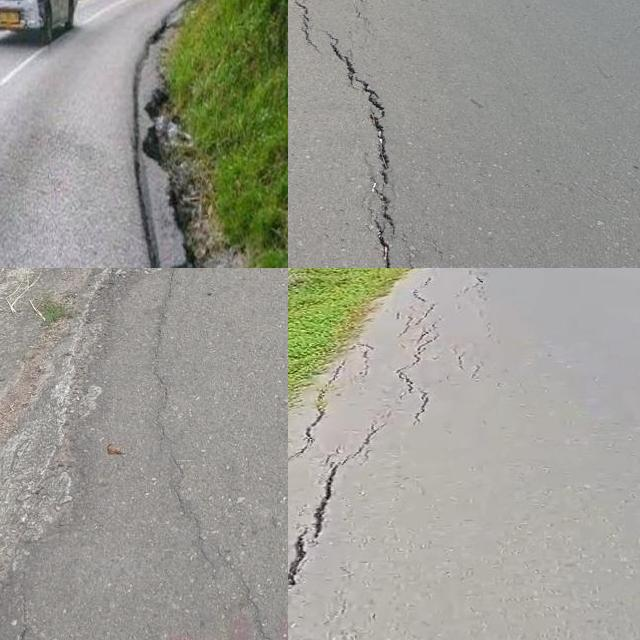Memanjang: (288, 0, 409, 268), (288, 432, 393, 640)
Pinggir: (120, 8, 222, 268)
